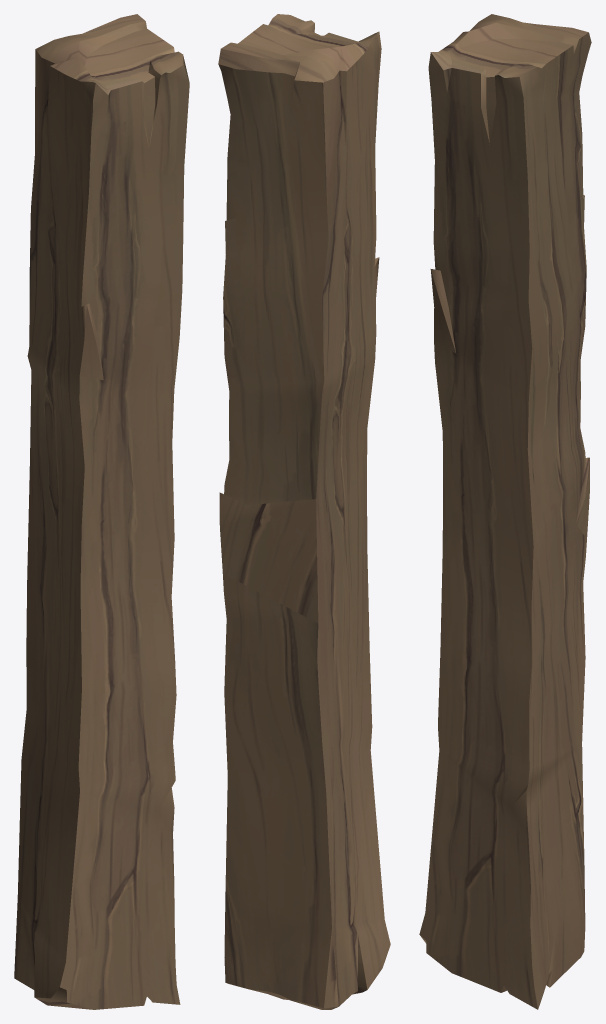
The model's file is pillar_1.fbx.
3 views of the same model, side by side, from view 1: azimuth 30°, elevation 25°; view 2: azimuth 150°, elevation 25°; view 3: azimuth 330°, elevation 25° (orthographic).
Parts seen in each view (by area): view 1: Wall_1.004; view 2: Wall_1.004; view 3: Wall_1.004.
Part boxes in pixels (box(x1,y1,x2,y2)): Wall_1.004: box(14, 14, 189, 1009); Wall_1.004: box(218, 14, 390, 1009); Wall_1.004: box(419, 14, 591, 1009).
Size of the model in its own units: 0.4162 by 3.04 by 0.3996.
